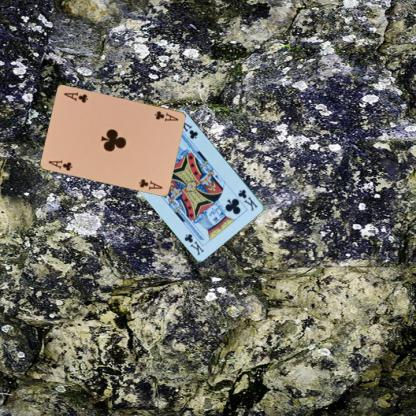Ac: (152, 108, 180, 123), (46, 157, 74, 172)
Kc: (236, 186, 259, 212)
